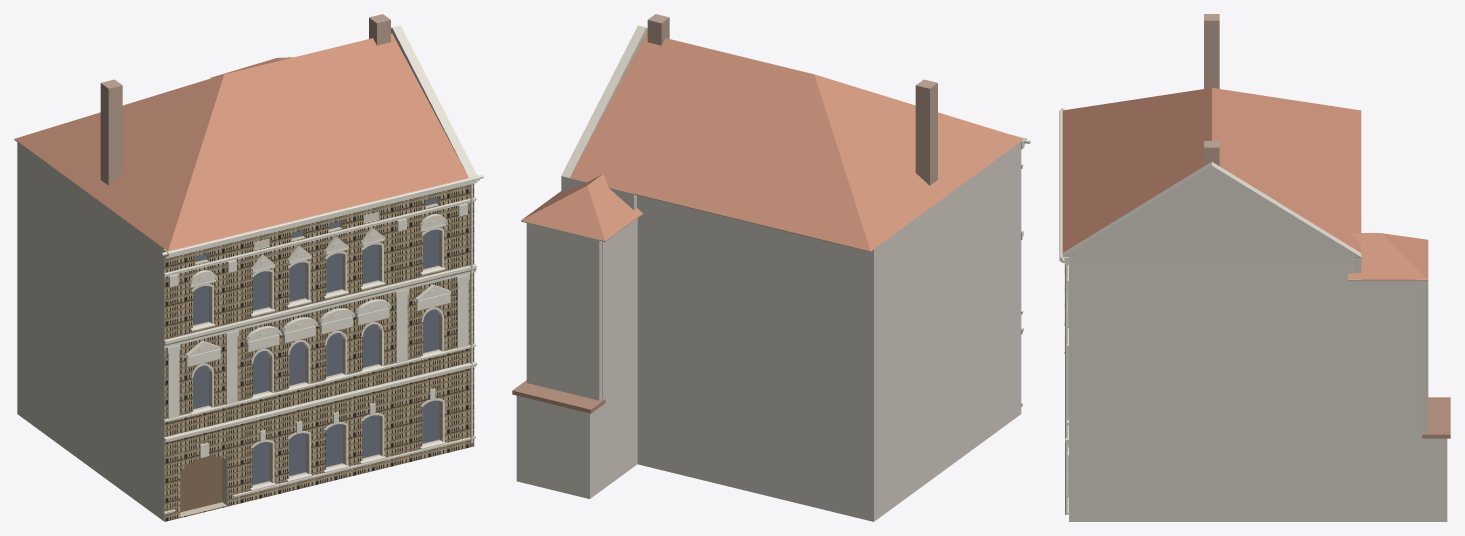
Rendered from 262-claude-r7m.glb.
3 views of the same model, side by side, from view 1: azimuth 30°, elevation 25°; view 2: azimuth 150°, elevation 25°; view 3: azimuth 270°, elevation 25° (orthographic). The views are drawn at different scales.
Visible parts, largest first — view 1: CP_262_Masonry, CP_262_Roof, CP_262_Cornice_first_string_0, CP_262_Cornice_main_cornice_0, CP_262_Chimney_0, CP_262_Cornice_ground_string_0, CP_262_Gable_R_firewall, CP_262_Cornice_second_string_0, CP_262_Cornice_first_sill_band_0, CP_262_Pilaster_1Rf, CP_262_Pilaster_6Rf, CP_262_Pilaster_1Lf (+4 smaller); view 2: CP_262_Masonry, CP_262_Roof, CP_262_AtticClosure_2, CP_262_Right_Strip, CP_262_Annex_Kassa, CP_262_WingRoof_Right_Strip, CP_262_Chimney_0, CP_262_Gable_R_firewall, CP_262_Annex_Roof, CP_262_Chimney_1; view 3: CP_262_Masonry, CP_262_Roof, CP_262_Right_Strip, CP_262_Gable_R_firewall, CP_262_WingRoof_Right_Strip, CP_262_Annex_Kassa, CP_262_Chimney_0, CP_262_AtticClosure_2, CP_262_Annex_Roof, CP_262_Downpipe_0, CP_262_Cornice_main_cornice_0.
Part boxes in pixels (x1,y1,x2,y2): CP_262_Masonry: (17,141,474,521); CP_262_Roof: (14,33,468,251); CP_262_Cornice_first_string_0: (163,264,476,348); CP_262_Cornice_main_cornice_0: (163,175,479,258); CP_262_Chimney_0: (100,79,122,185); CP_262_Cornice_ground_string_0: (163,361,477,442); CP_262_Gable_R_firewall: (391,25,477,177); CP_262_Cornice_second_string_0: (163,197,476,276); CP_262_Cornice_first_sill_band_0: (163,343,476,422); CP_262_Pilaster_1Rf: (226,336,237,404); CP_262_Pilaster_6Rf: (457,279,468,348); CP_262_Pilaster_1Lf: (168,350,179,418); CP_262_Masonry: (637,141,1021,521); CP_262_Roof: (570,33,1023,251); CP_262_AtticClosure_2: (526,222,602,400); CP_262_Right_Strip: (602,218,637,489); CP_262_Annex_Kassa: (516,395,602,498); CP_262_WingRoof_Right_Strip: (521,174,642,240); CP_262_Chimney_0: (915,79,937,185); CP_262_Gable_R_firewall: (561,25,647,177); CP_262_Annex_Roof: (512,380,605,413); CP_262_Chimney_1: (647,14,669,45); CP_262_Masonry: (1069,257,1354,521); CP_262_Roof: (1062,88,1361,252); CP_262_Right_Strip: (1354,280,1422,521); CP_262_Gable_R_firewall: (1062,162,1361,256); CP_262_WingRoof_Right_Strip: (1348,233,1428,279); CP_262_Annex_Kassa: (1421,436,1447,521); CP_262_Chimney_0: (1204,14,1219,88); CP_262_AtticClosure_2: (1422,280,1428,433); CP_262_Annex_Roof: (1422,397,1450,438); CP_262_Downpipe_0: (1065,265,1067,514); CP_262_Cornice_main_cornice_0: (1059,110,1069,264).
Bounding box in the file's own units: 17.1 × 19.3 × 18.6.
Materials: 18 (1 with a texture image).
